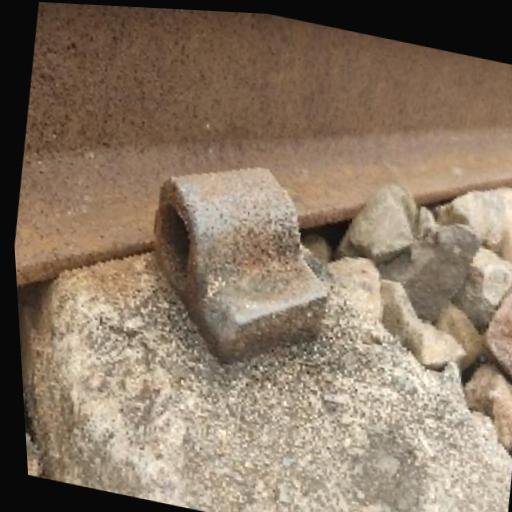erc_missing: (129, 138, 345, 395)
